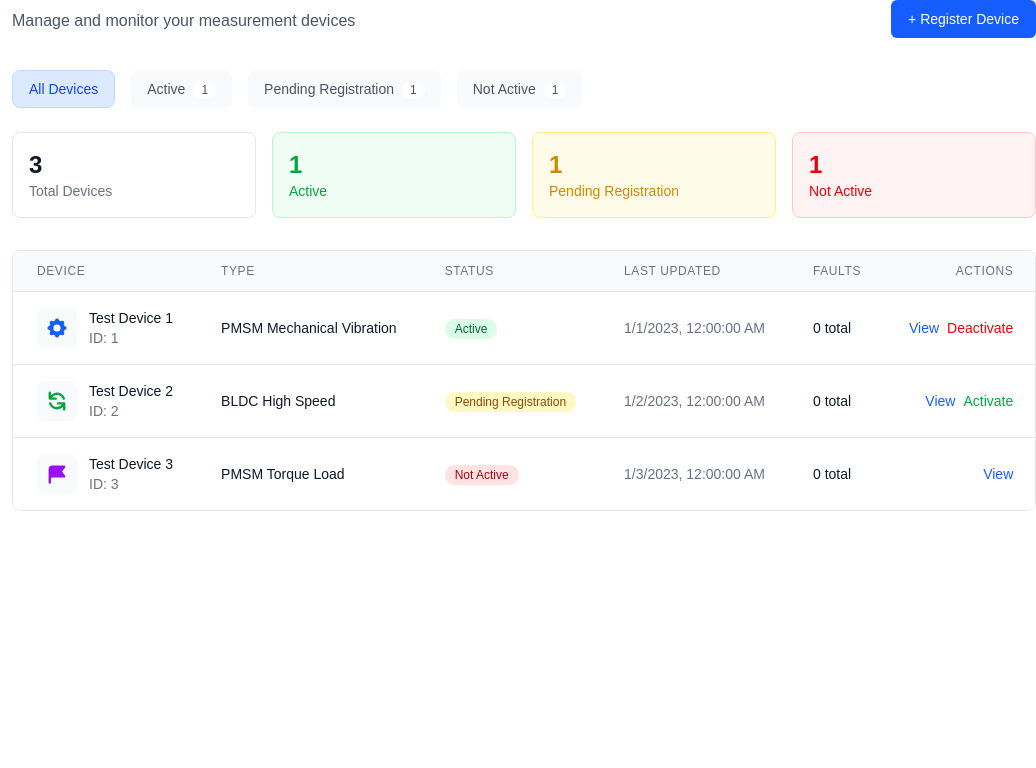
Test: DevicesPage › handles device activation error
The width and height of the screenshot is (1036, 768).
Expected: the link "Test Device 2" is shown, [89,383,173,399]
Click the button "Activate". click: (988, 401)
box: [964,391,1013,411]
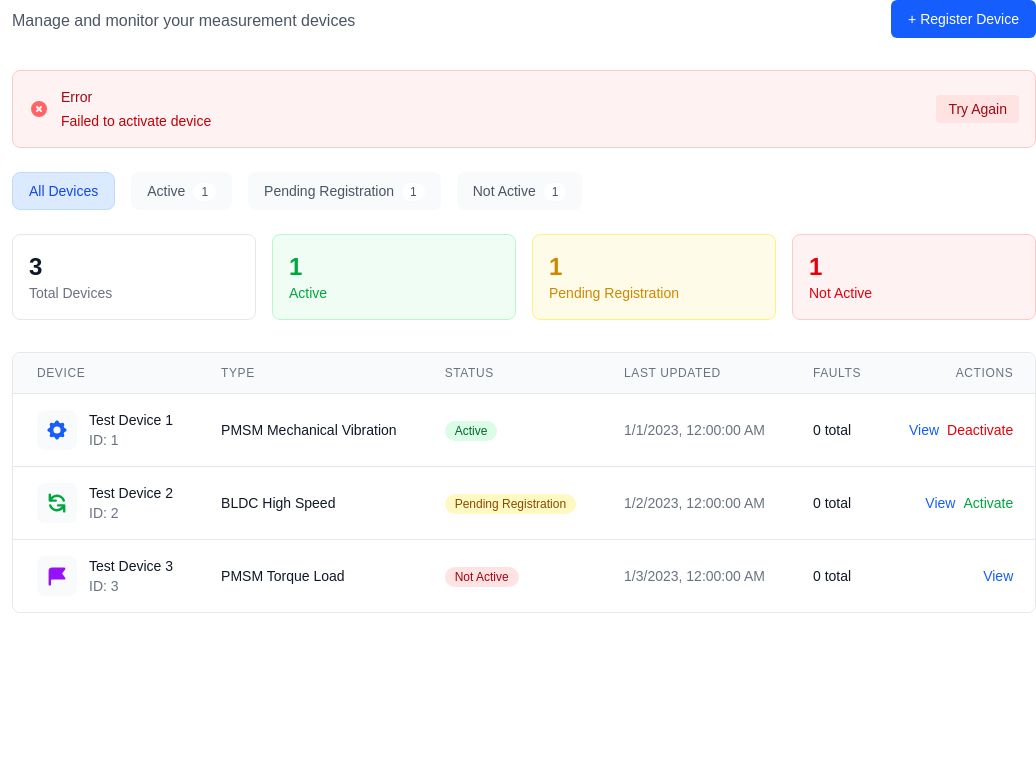
Now the text "Failed to activate device" is shown, box [61,111,211,131]
